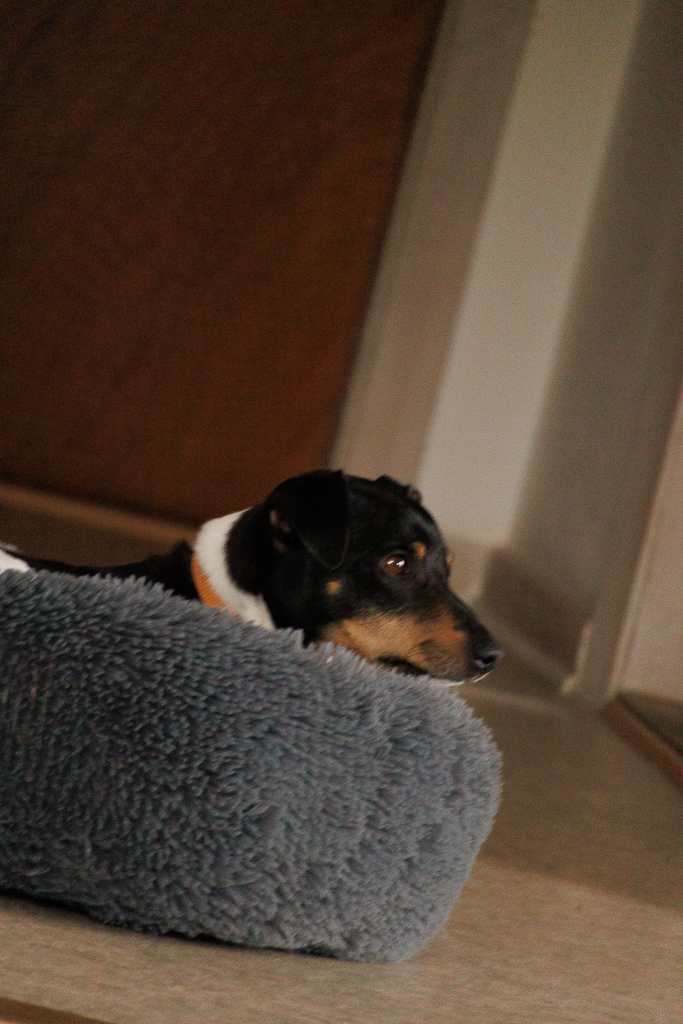Dog: (0, 459, 513, 698)
